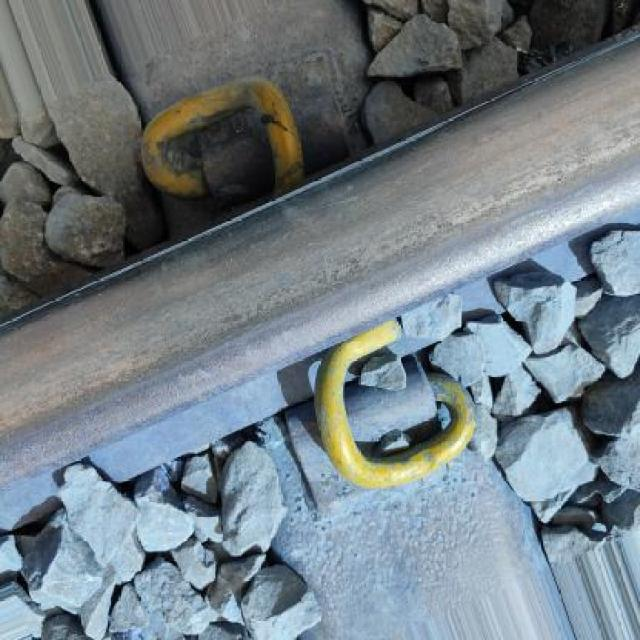defective: (0, 20, 638, 526)
